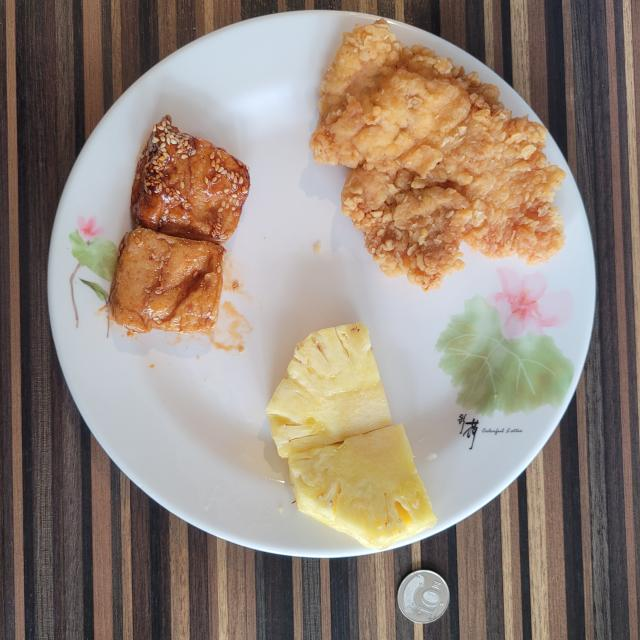coin: (398, 570, 450, 624)
creamy tofu: (109, 115, 250, 334)
fried chicken cutlet: (310, 20, 565, 291)
pineapple: (266, 322, 436, 549)
